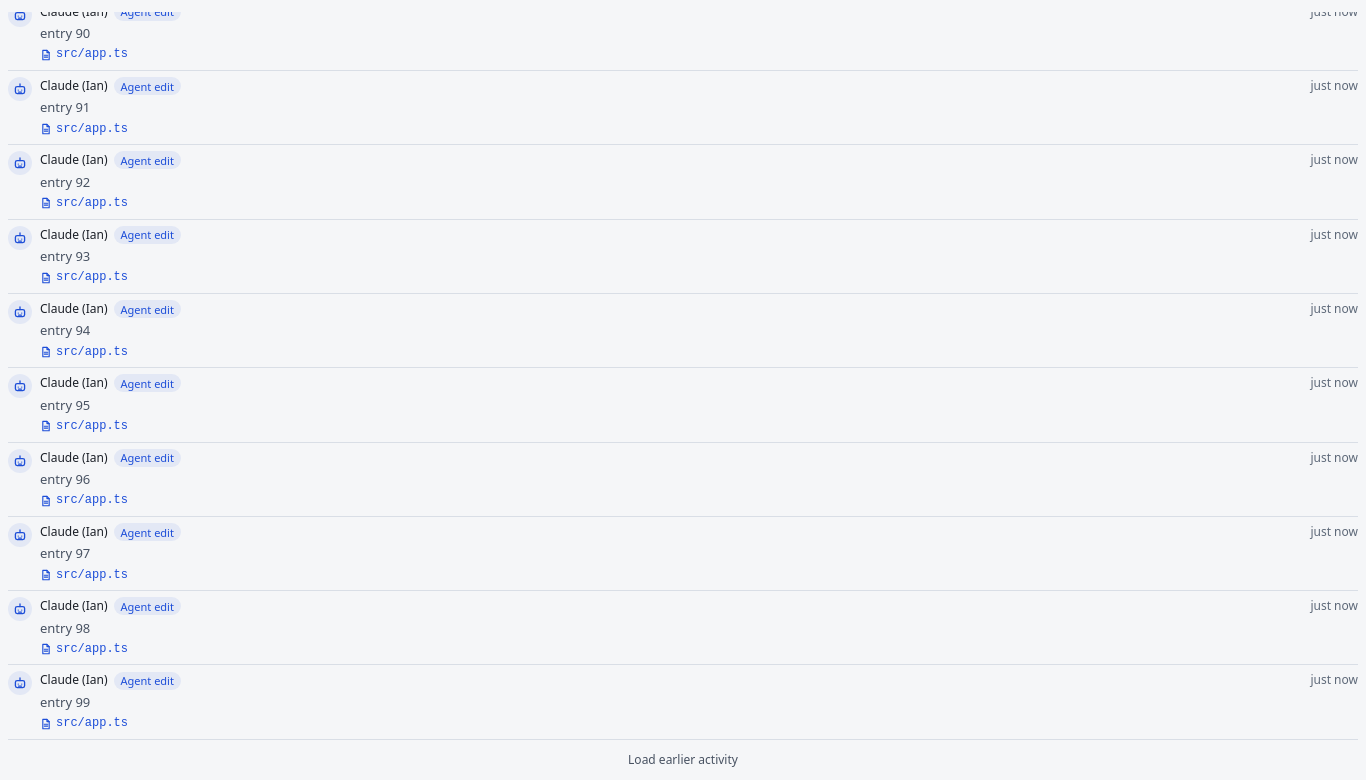
Test: ActivityPanel: the live activity feed › loads older pages with an exact `before` cursor
(page scrolled)
Click the button "Load earlier activity" at (683, 760), box [619,748,747,772]
(page scrolled)
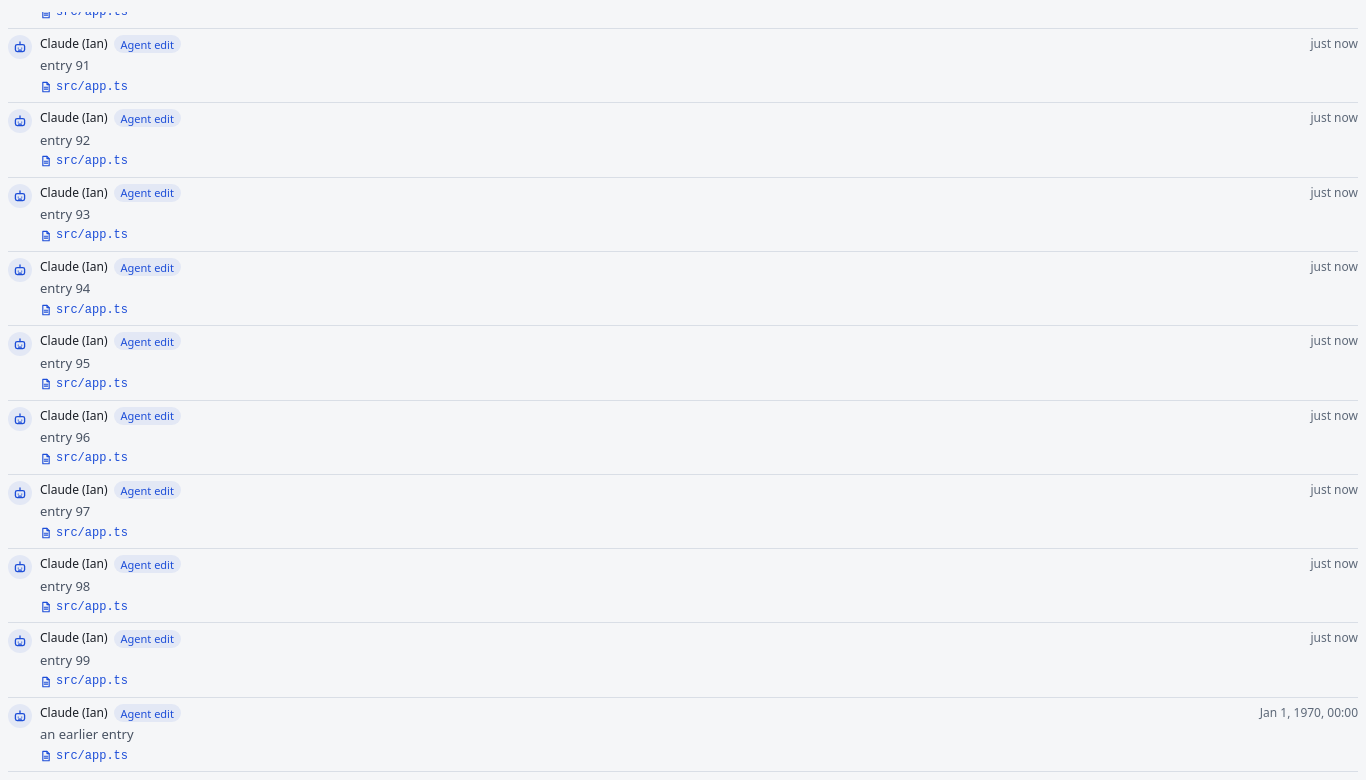
Result: the text "an earlier entry" is shown at [40,725,134,743]
Result: the button "Load earlier activity" is gone
